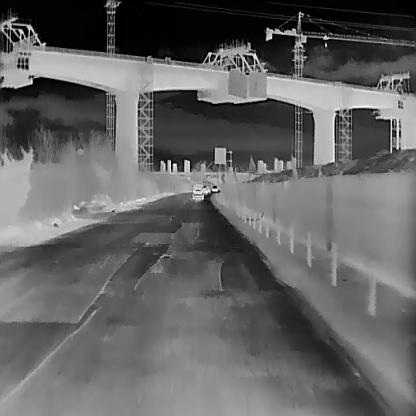car: (192, 184, 204, 200), (204, 186, 210, 193), (212, 185, 217, 191)
